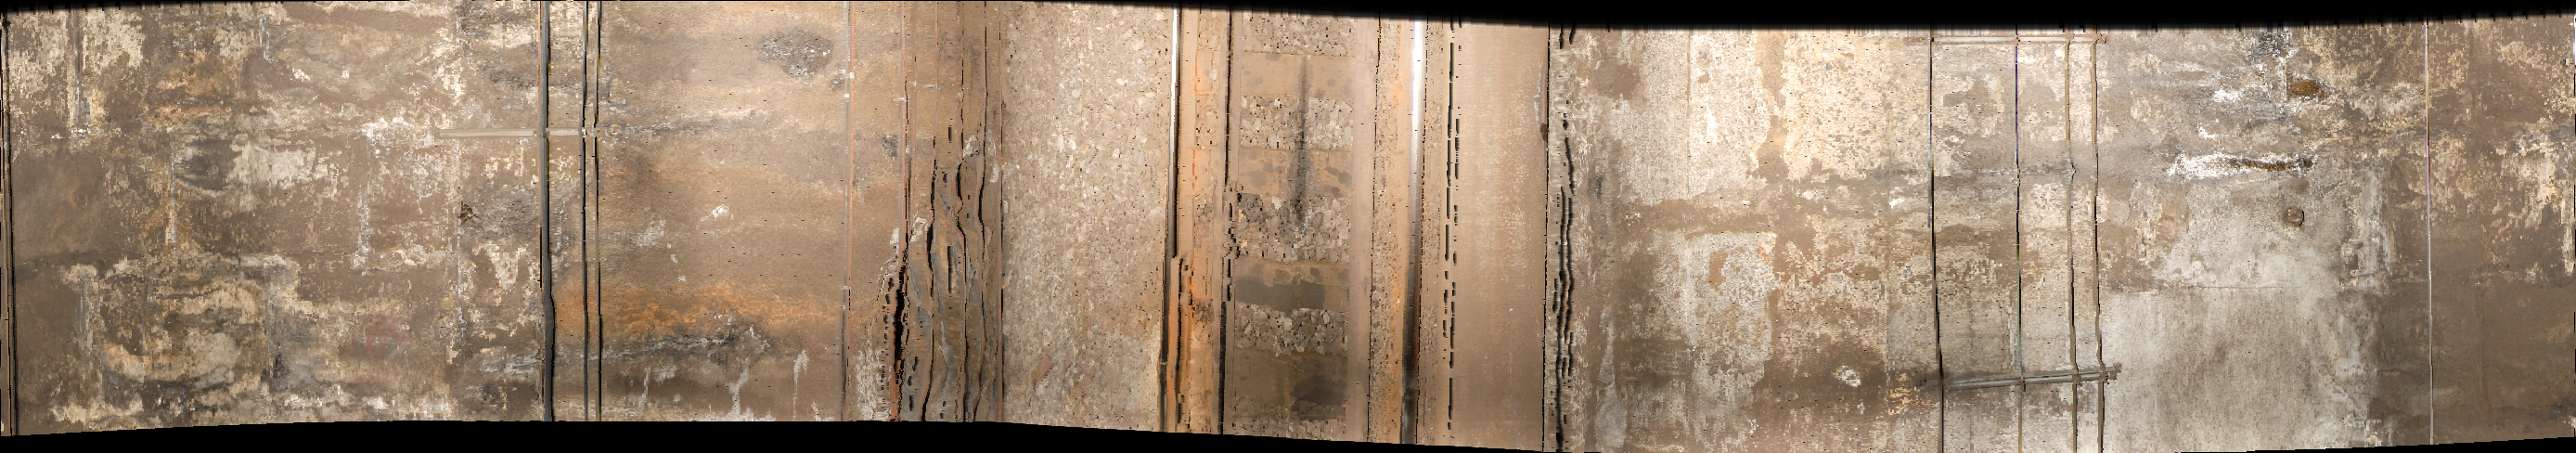pipes: (839, 3, 1020, 438), (2001, 39, 2116, 453), (536, 2, 606, 414), (1920, 39, 1952, 448)
tracks: (1168, 3, 1449, 453)
